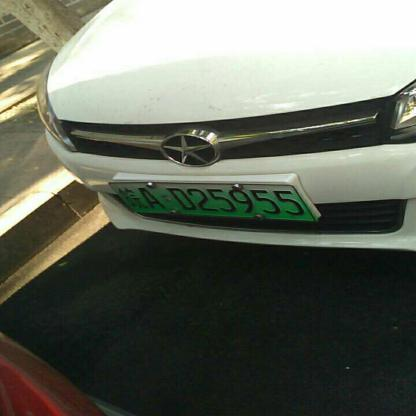lp: (109, 182, 314, 218)
